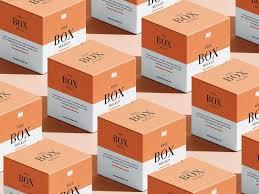cube: (142, 2, 233, 91), (98, 100, 188, 189), (47, 41, 138, 129), (1, 1, 86, 74), (191, 61, 259, 150)
